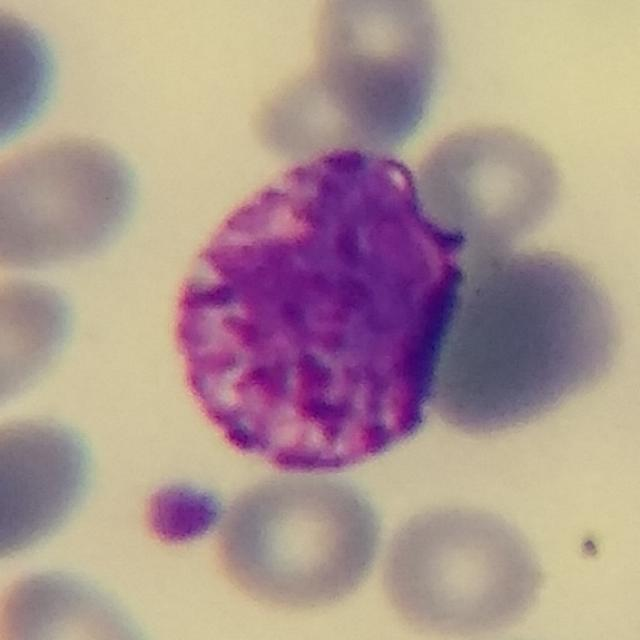baso: (168, 134, 469, 482)
